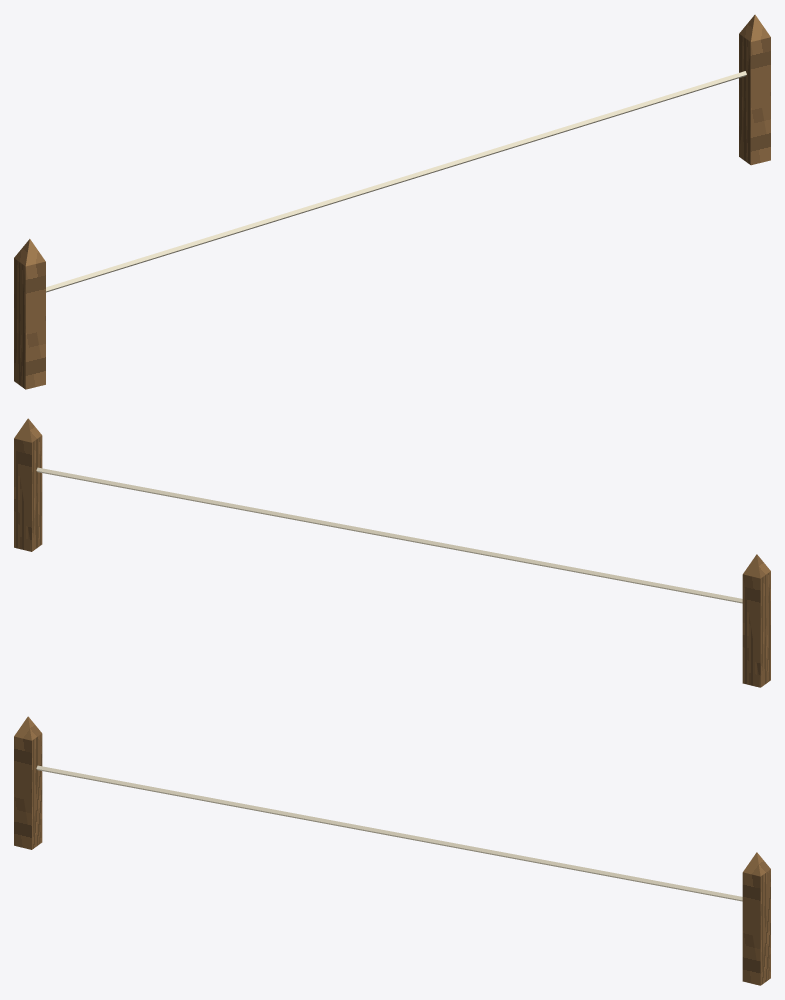
File: tr_tripwire.glb
3 views of the same model, one above another, from view 1: azimuth 30°, elevation 25°; view 2: azimuth 150°, elevation 25°; view 3: azimuth 330°, elevation 25° (orthographic). The views are drawn at different scales.
Parts seen in each view (by area): view 1: block_stake (×2), block_string; view 2: block_stake (×2), block_string; view 3: block_stake (×2), block_string.
Boxes of the visible parts, box(x1,y1,x2,y2) form: block_stake (×2): box(14, 14, 770, 389); block_string: box(46, 71, 746, 292); block_stake (×2): box(14, 418, 770, 687); block_string: box(36, 467, 742, 603); block_stake (×2): box(14, 716, 770, 985); block_string: box(36, 765, 742, 901).
Bounding box in the file's own units: 0.944 × 0.164 × 0.124.
1 material, 1 textured.
